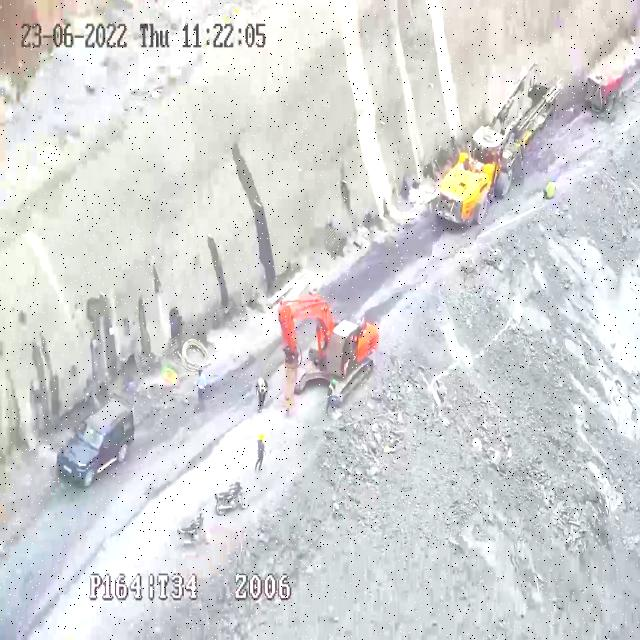Helmet: (258, 378, 262, 386), (331, 378, 336, 384)
Mask: (258, 380, 266, 394), (328, 383, 333, 399)
